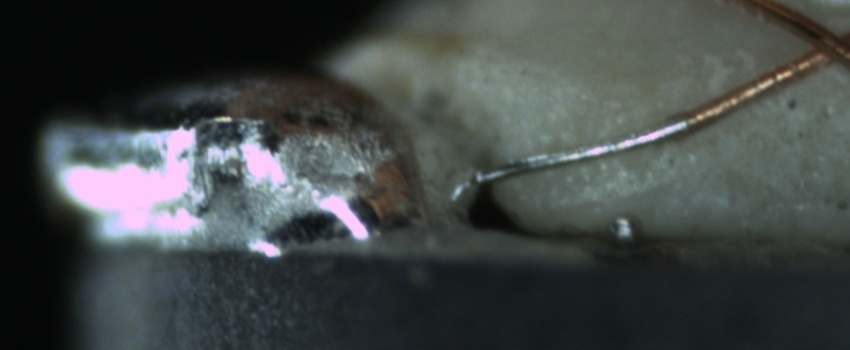CL: (779, 10, 849, 79)
TS: (476, 114, 683, 188)
